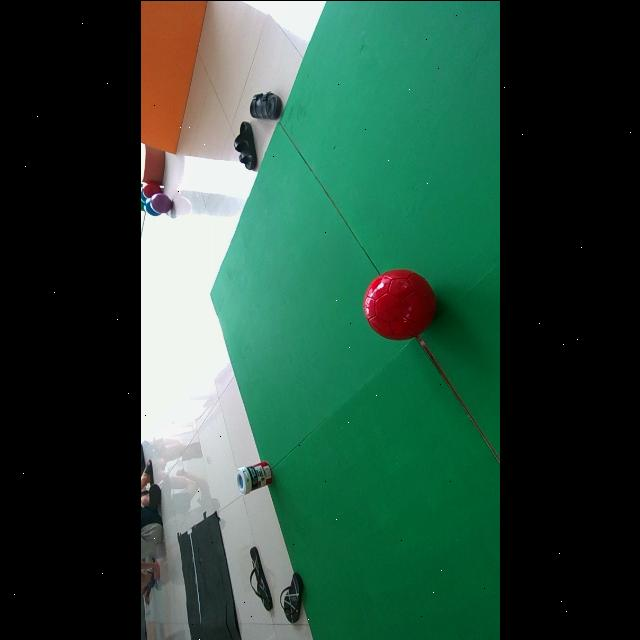R: (363, 268, 436, 340)
